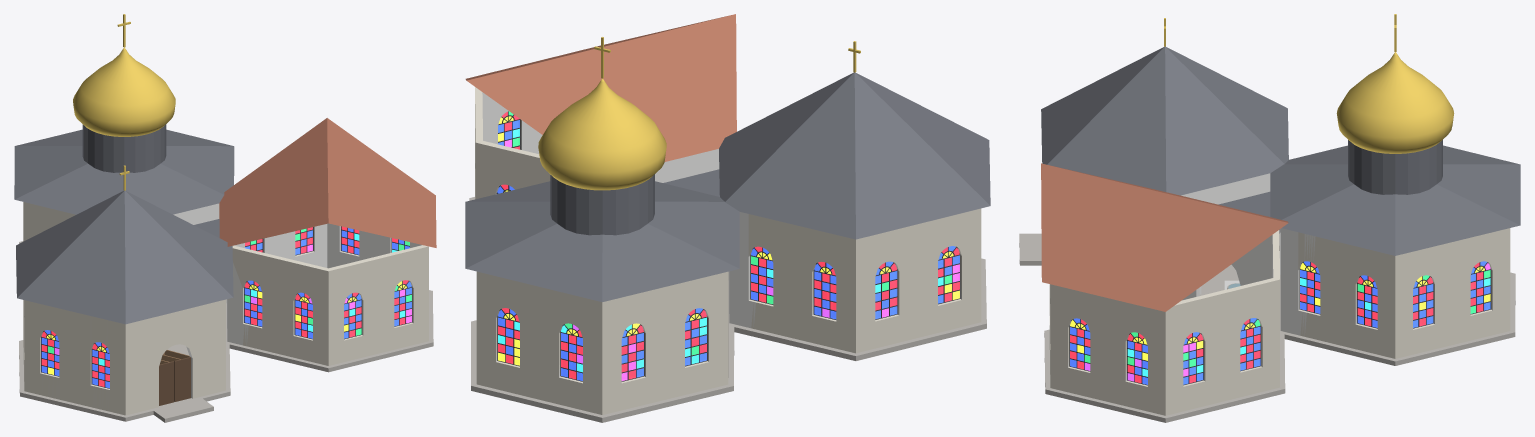
The model's file is church-v3.glb.
The picture shows the model from 3 angles, left to right: view 1: azimuth 30°, elevation 25°; view 2: azimuth 150°, elevation 25°; view 3: azimuth 270°, elevation 25°; orthographic projection. The views are drawn at different scales.
Visible parts, largest first — view 1: Roof_rom, Walls_anglican, Roof_ang, Walls_roman, Roof_orth, Dome, Floor, Lead_cames, StainedGlass_cobalt, StainedGlass_ruby, Walls_orthodox, Door; view 2: Roof_rom, Roof_orth, Walls_orthodox, Walls_roman, Roof_ang, Dome, Walls_anglican, Floor, Lead_cames, StainedGlass_cobalt, StainedGlass_ruby, StainedGlass_amber (+3 smaller); view 3: Roof_rom, Walls_anglican, Roof_ang, Roof_orth, Walls_orthodox, Dome, Floor, StainedGlass_cobalt, Lead_cames, StainedGlass_ruby, Walls_roman, StainedGlass_amber (+2 smaller).
Part boxes in pixels (x1,y1,x2,y2): Roof_rom: (16, 190, 233, 324); Walls_anglican: (226, 223, 428, 365); Roof_ang: (219, 118, 436, 247); Walls_roman: (23, 299, 225, 415); Roof_orth: (14, 124, 234, 214); Dome: (73, 47, 175, 136); Floor: (19, 241, 433, 422); Lead_cames: (41, 226, 412, 388); StainedGlass_cobalt: (41, 228, 411, 388); StainedGlass_ruby: (41, 226, 408, 386); Walls_orthodox: (23, 202, 219, 241); Door: (159, 357, 190, 405); Roof_rom: (719, 72, 990, 239); Roof_orth: (465, 174, 739, 302); Walls_orthodox: (476, 271, 728, 414); Walls_roman: (728, 208, 981, 353); Roof_ang: (465, 14, 736, 161); Dome: (538, 78, 666, 190); Walls_anglican: (475, 87, 719, 199); Floor: (469, 197, 986, 422); Lead_cames: (496, 111, 960, 381); StainedGlass_cobalt: (497, 120, 959, 380); StainedGlass_ruby: (498, 111, 959, 379); StainedGlass_amber: (498, 116, 959, 365); Roof_rom: (1041, 46, 1288, 195); Walls_anglican: (1049, 230, 1279, 415); Roof_ang: (1041, 163, 1288, 311); Roof_orth: (1270, 140, 1520, 255); Walls_orthodox: (1280, 228, 1510, 358); Dome: (1336, 52, 1454, 153); Floor: (1019, 233, 1515, 422); StainedGlass_cobalt: (1070, 261, 1490, 384); Lead_cames: (1069, 262, 1491, 385); StainedGlass_ruby: (1070, 262, 1483, 383); Walls_roman: (1181, 173, 1280, 294); StainedGlass_amber: (1070, 263, 1490, 360).
Size of what is drawn, in the model's own units: 32.43 by 19.7 by 29.45.
